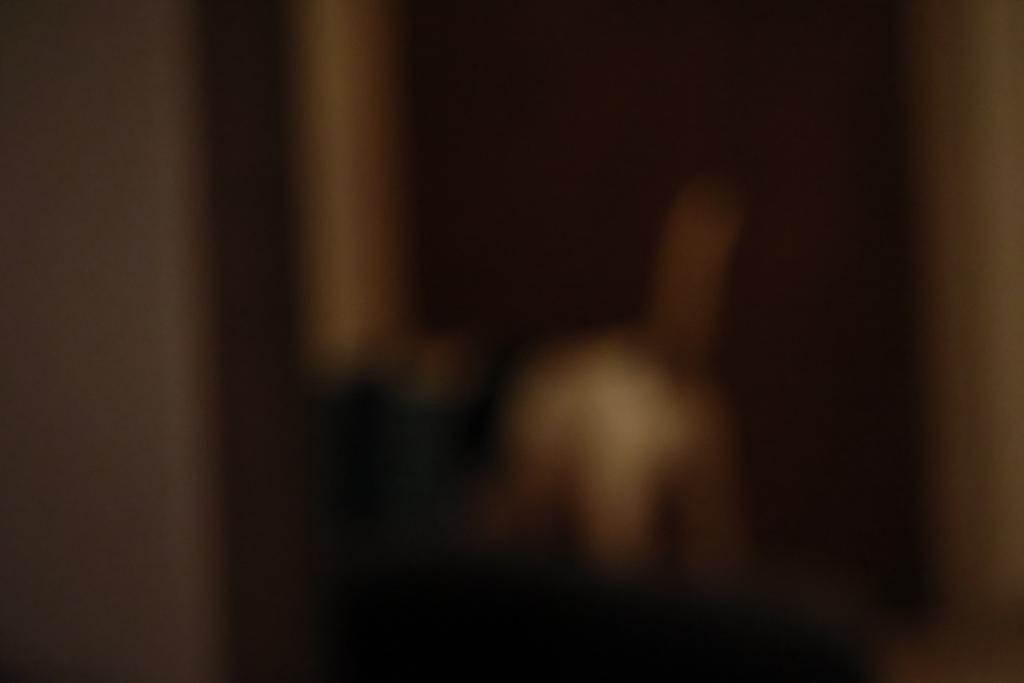Dog: (424, 165, 793, 594)
